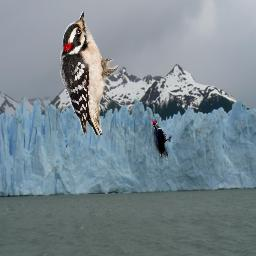Woodpecker: (60, 11, 118, 135), (152, 117, 172, 161)
